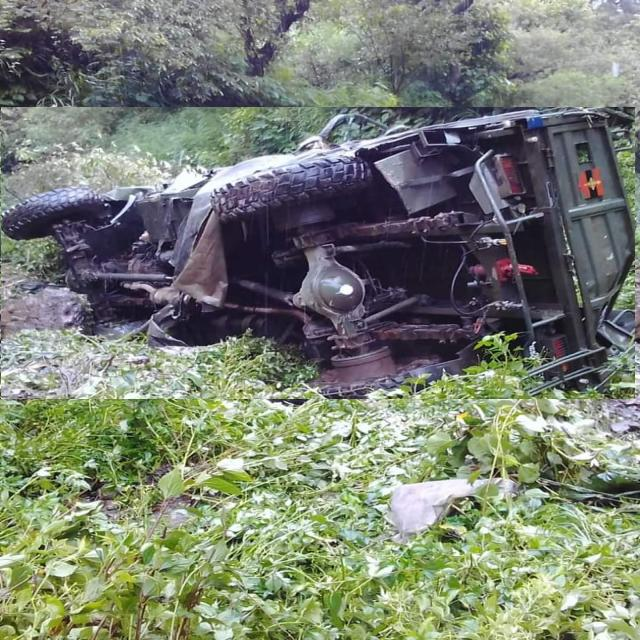accident: (1, 107, 635, 399)
